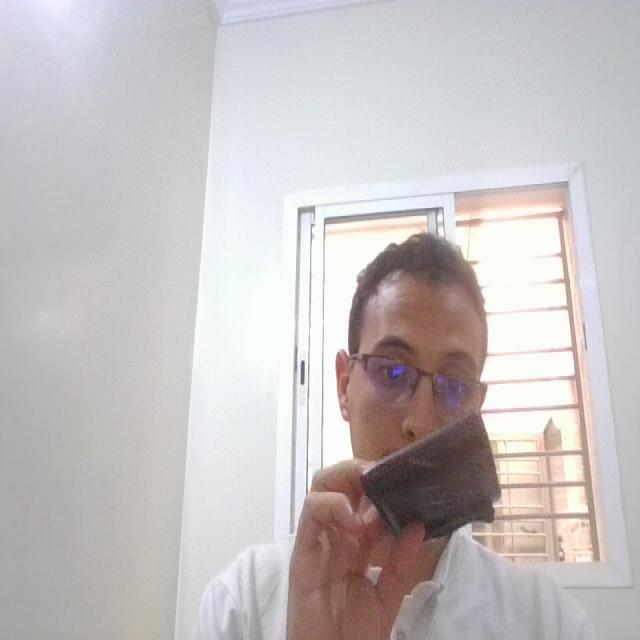wallet: (364, 406, 508, 556)
